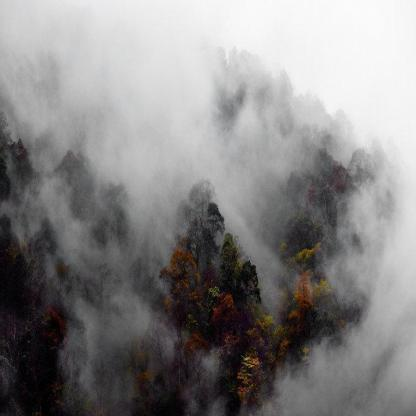smoke: (268, 312, 416, 414), (326, 167, 416, 310)
